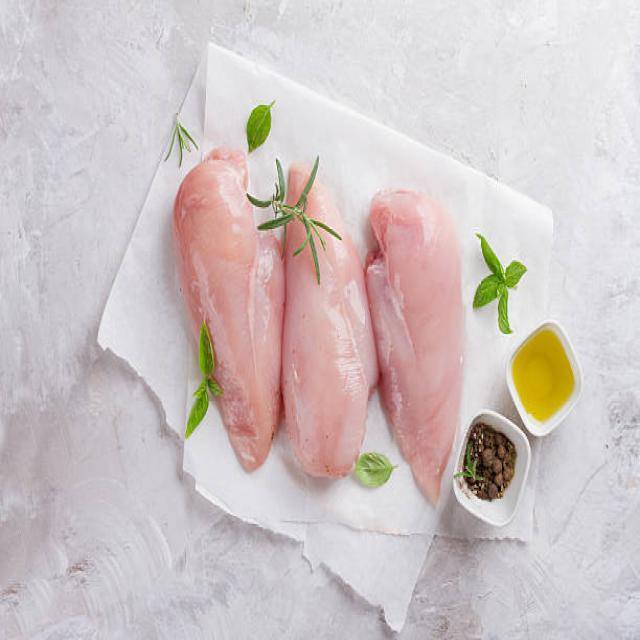Chicken: (376, 170, 472, 511), (170, 164, 274, 454), (285, 140, 365, 501)
